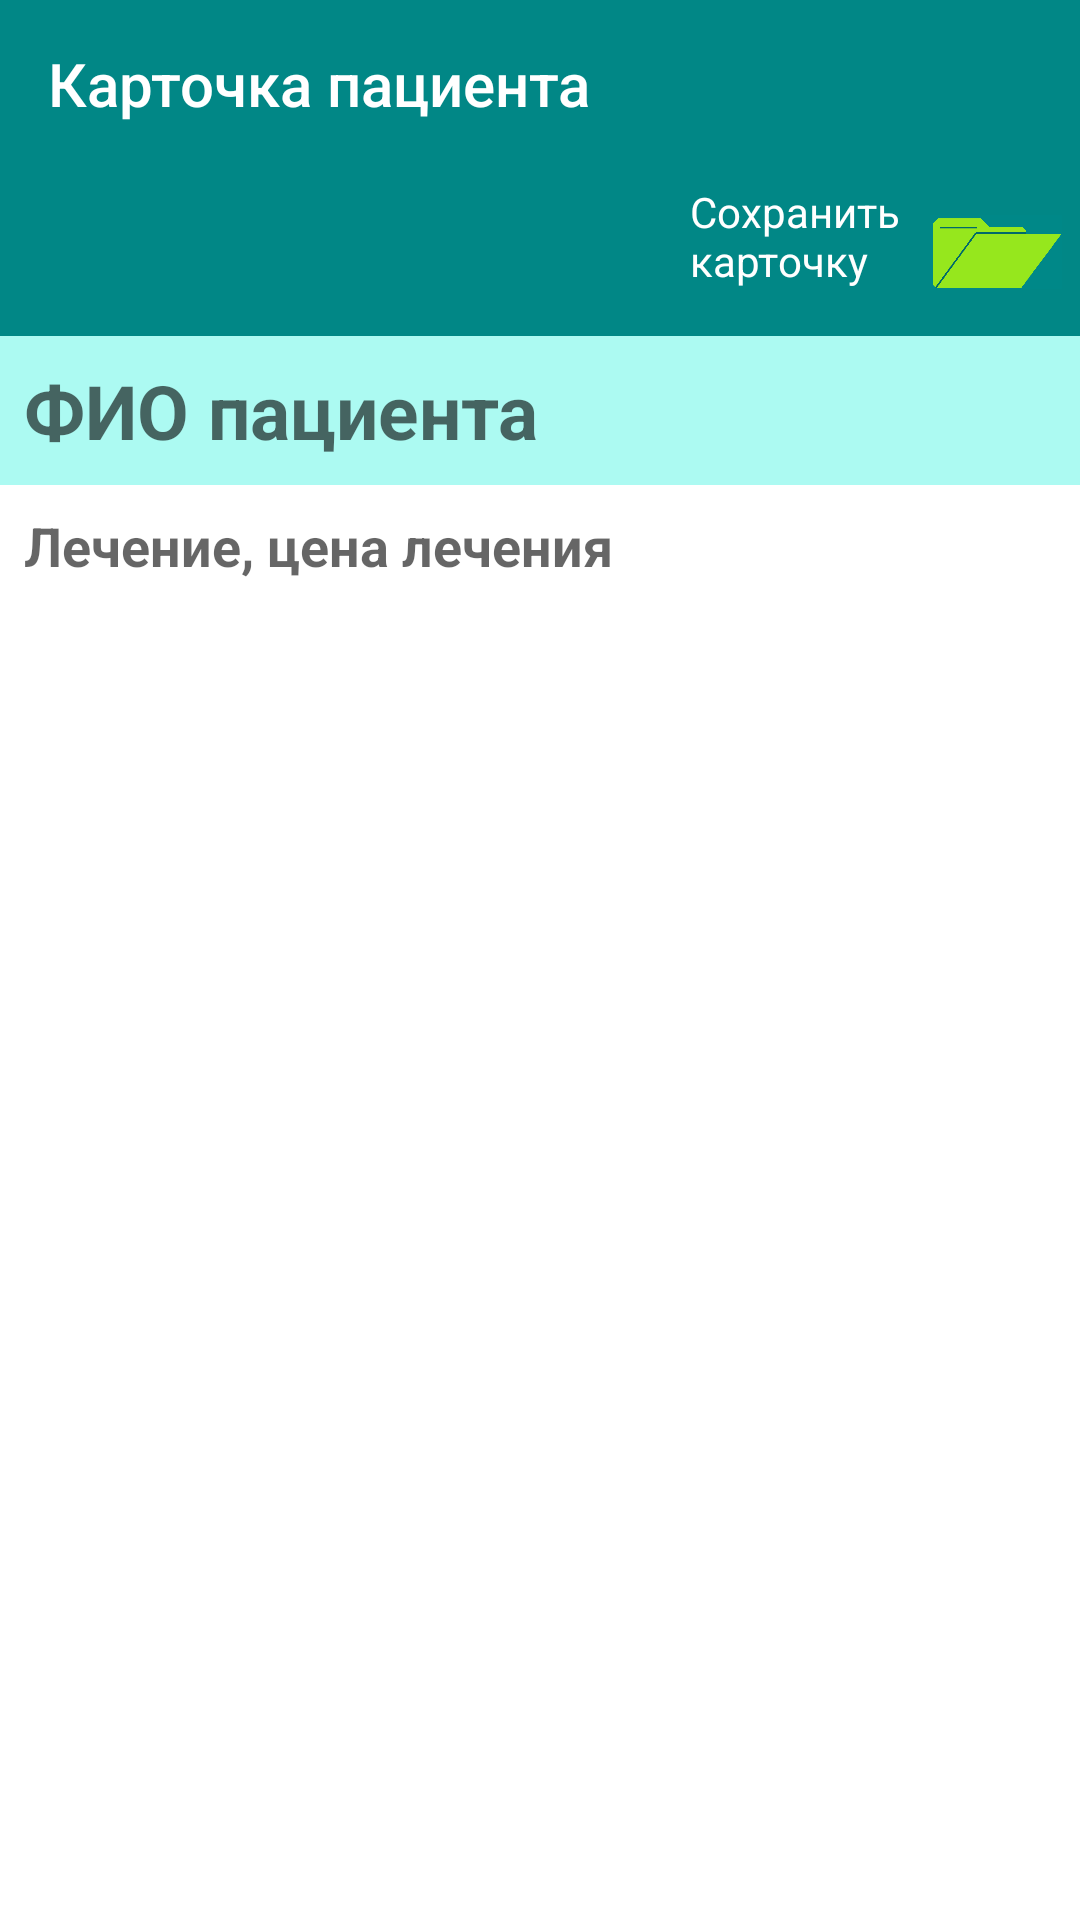

Named icons in this screenshot (1080 × 1920) and their centers, point (x, y):
folder: point (997, 253)
